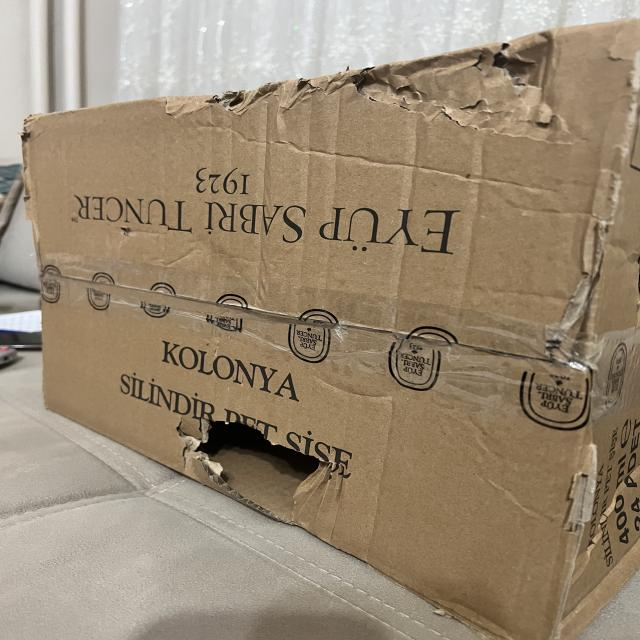damaged: (15, 13, 640, 639), (125, 14, 579, 153), (161, 402, 356, 531)
